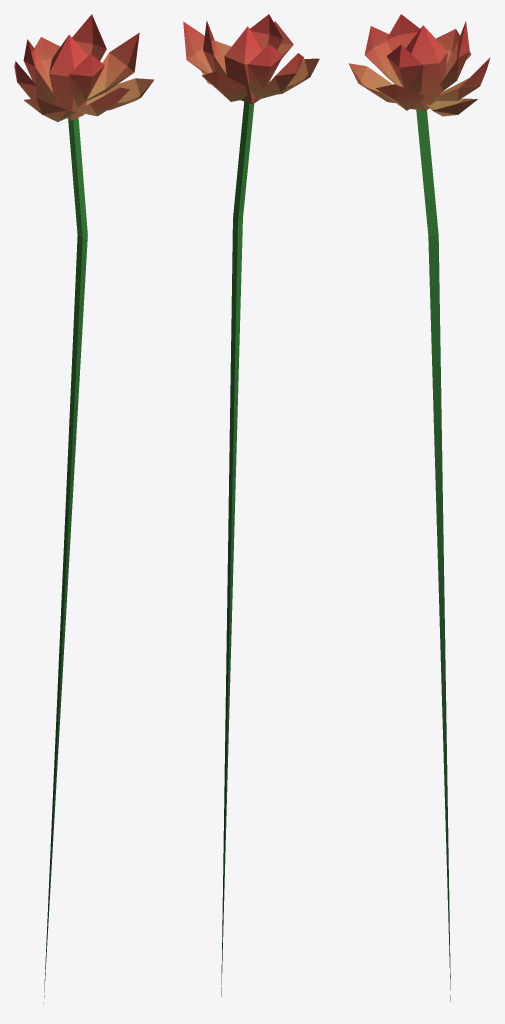
Rendered from ZLP_Grass_E_12.FBX.
The picture shows the model from 3 angles, left to right: view 1: azimuth 30°, elevation 25°; view 2: azimuth 150°, elevation 25°; view 3: azimuth 330°, elevation 25°; orthographic projection. The views are drawn at different scales.
Parts seen in each view (by area): view 1: ZLP_Grass_E_12; view 2: ZLP_Grass_E_12; view 3: ZLP_Grass_E_12.
Boxes of the visible parts, box(x1,y1,x2,y2) form: ZLP_Grass_E_12: box(14, 14, 154, 1003); ZLP_Grass_E_12: box(183, 14, 319, 996); ZLP_Grass_E_12: box(348, 14, 490, 1001).
Size of the model in its own units: 30.91 by 242 by 30.61.
